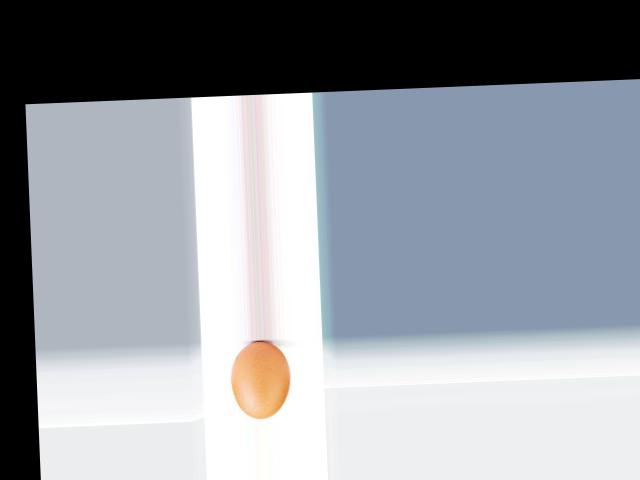egg: (230, 340, 292, 419)
